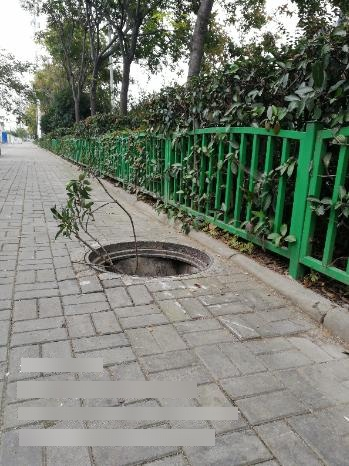lose: (86, 242, 215, 279)
